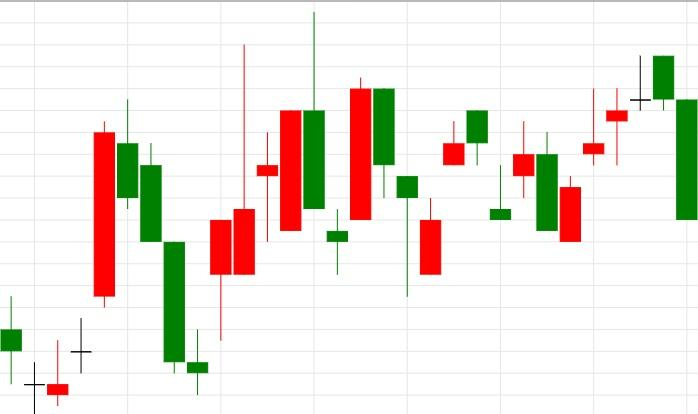morning_star_rise: (117, 99, 232, 395)
